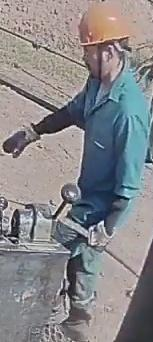gloves: (2, 123, 40, 158), (86, 219, 116, 252)
helmet: (77, 0, 131, 53)
vest: (76, 67, 153, 217)
